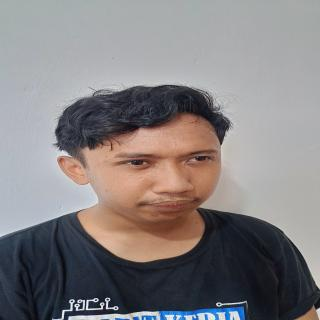Marah: (62, 104, 232, 227)
